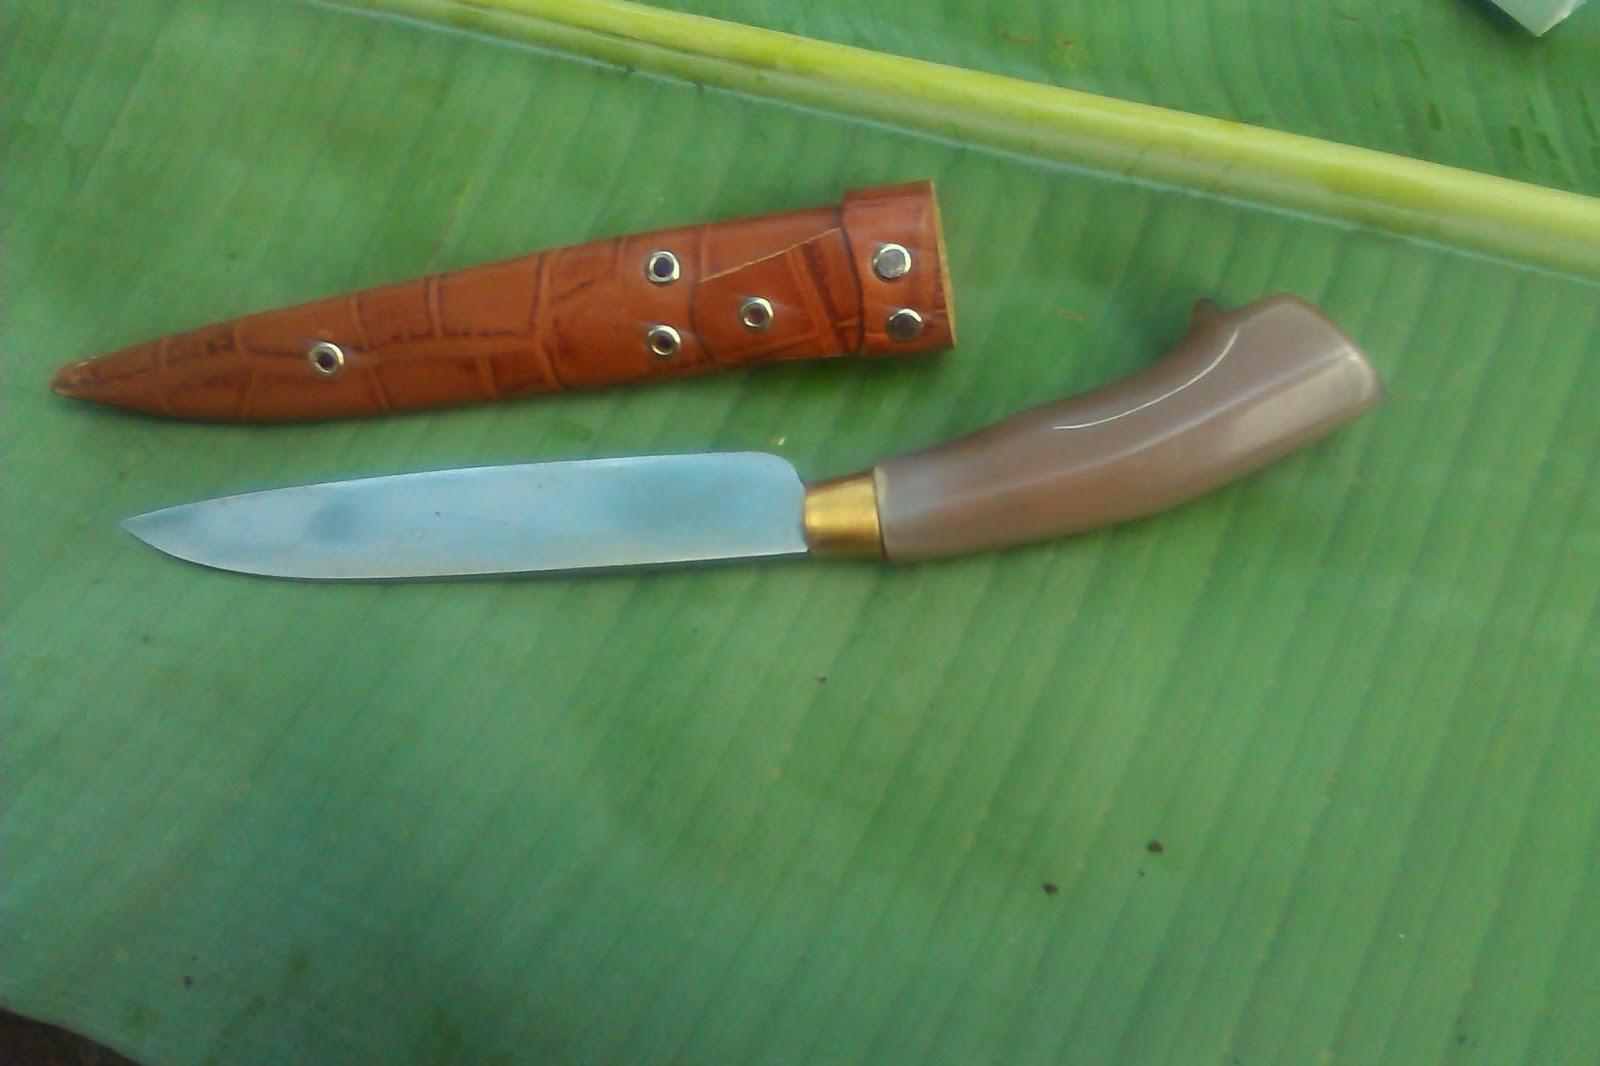faca: (123, 296, 1382, 579)
